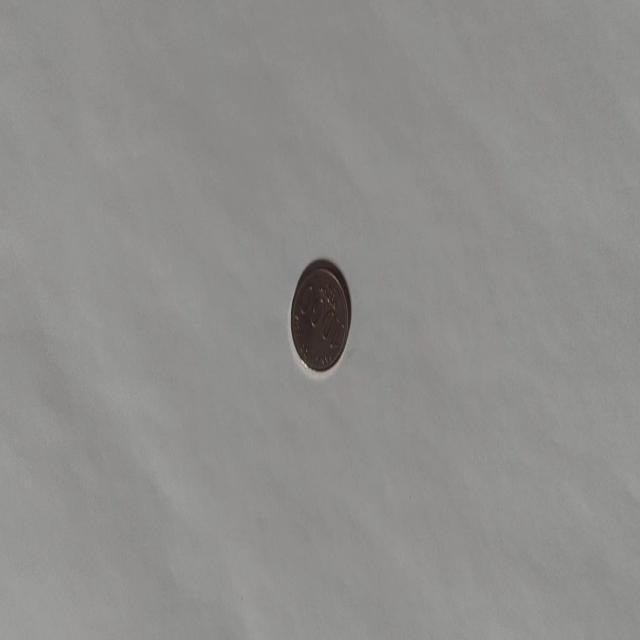seribu rupiah koin: (288, 258, 352, 376)
